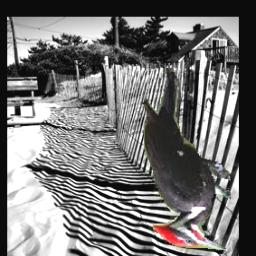Woodpecker: (142, 68, 232, 251)
